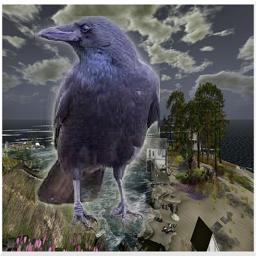Crow: (36, 17, 161, 234)
